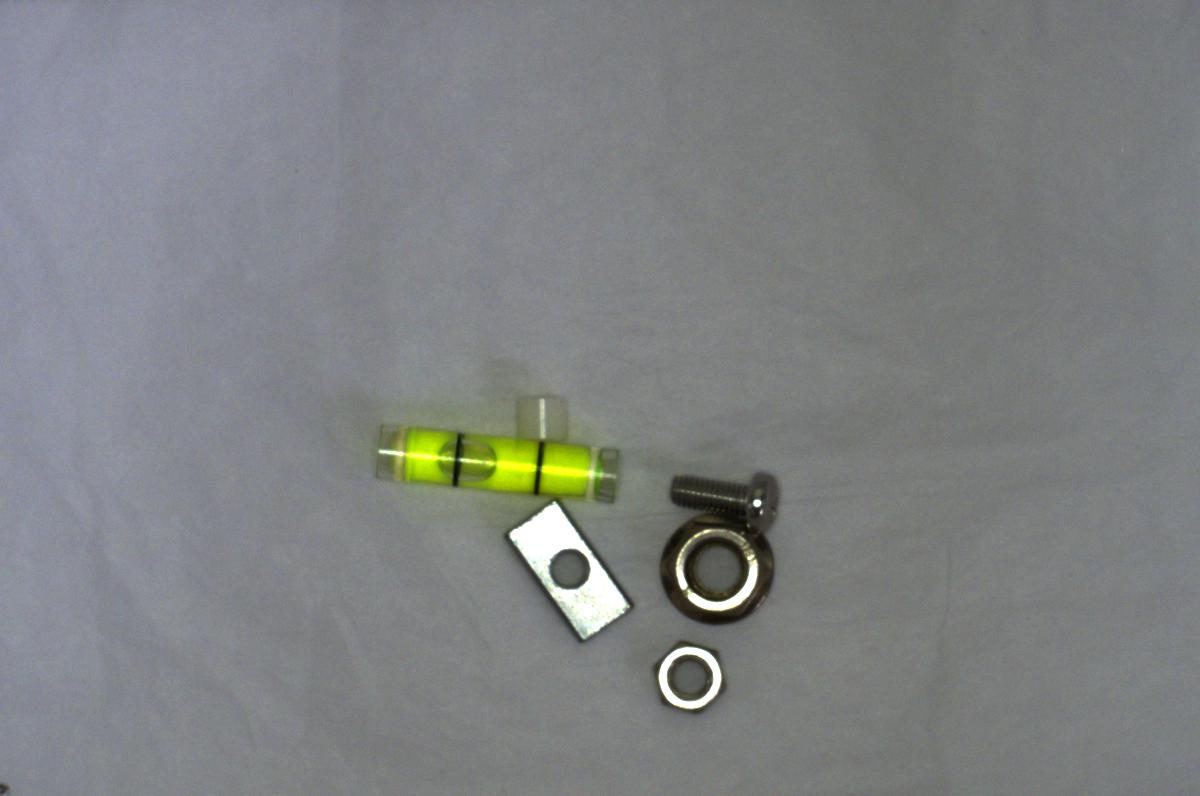Flange nut: (651, 510, 790, 628)
Hexagon nut: (641, 628, 728, 719)
Horizontal bubble: (365, 420, 625, 499)
Plastic cushion pillar: (506, 379, 582, 447)
Rectangular nut: (505, 502, 633, 645)
Round head screw: (650, 458, 782, 530)
